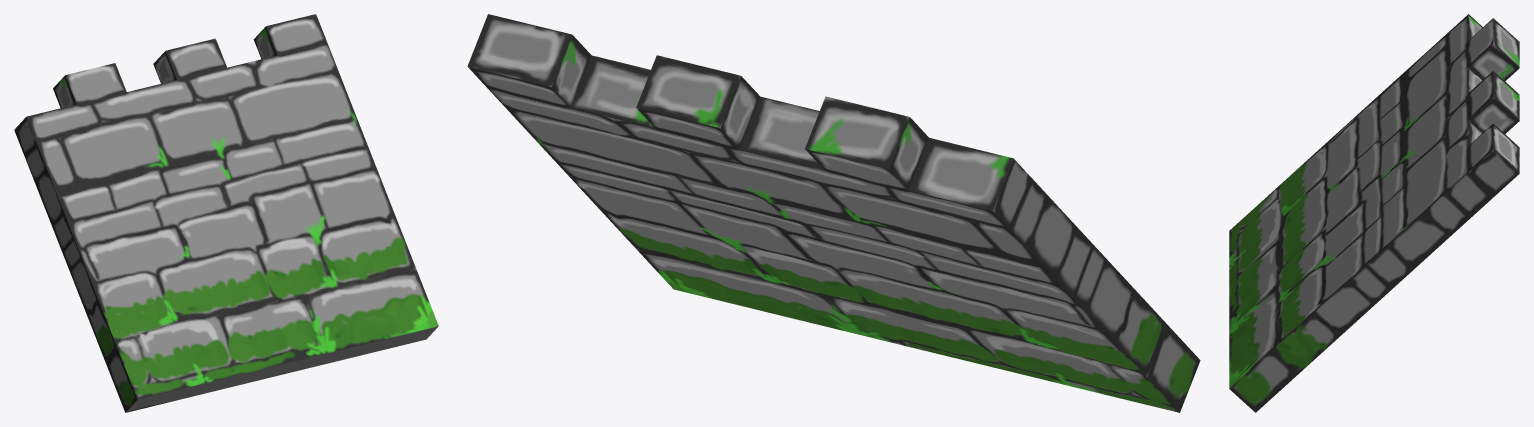
Rendered from wall2.fbx.
The picture shows the model from 3 angles, left to right: view 1: azimuth 30°, elevation 25°; view 2: azimuth 150°, elevation 25°; view 3: azimuth 270°, elevation 25°; orthographic projection. The views are drawn at different scales.
Parts seen in each view (by area): view 1: pCube2; view 2: pCube2; view 3: pCube2.
Part boxes in pixels (x1,y1,x2,y2): pCube2: (14, 14, 438, 412); pCube2: (467, 14, 1200, 412); pCube2: (1229, 14, 1519, 412).
Size of the model in its own units: 80 by 62.11 by 62.11.
